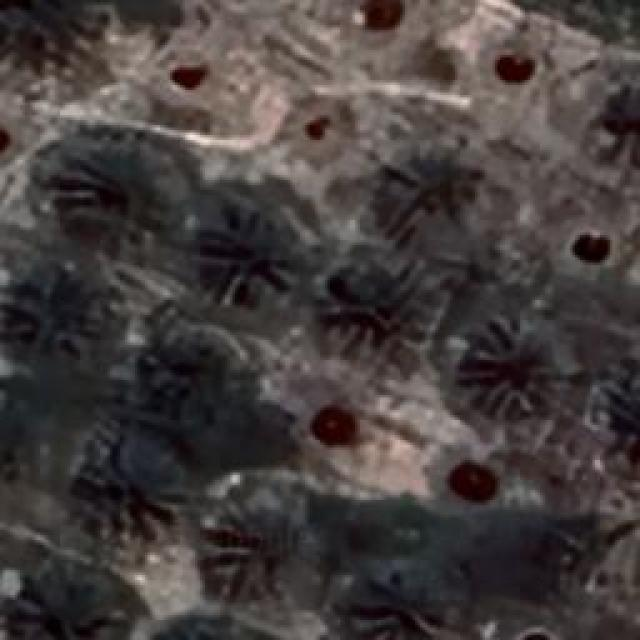PalmTree: (38, 83, 621, 321), (50, 121, 180, 244), (130, 310, 252, 432), (205, 478, 313, 604), (8, 550, 138, 640), (72, 451, 176, 559), (201, 205, 299, 303), (462, 320, 560, 415), (362, 542, 456, 640), (322, 260, 410, 362), (0, 0, 100, 85), (395, 154, 475, 244), (587, 355, 640, 470), (0, 396, 43, 481), (144, 610, 258, 640), (141, 621, 250, 640)
